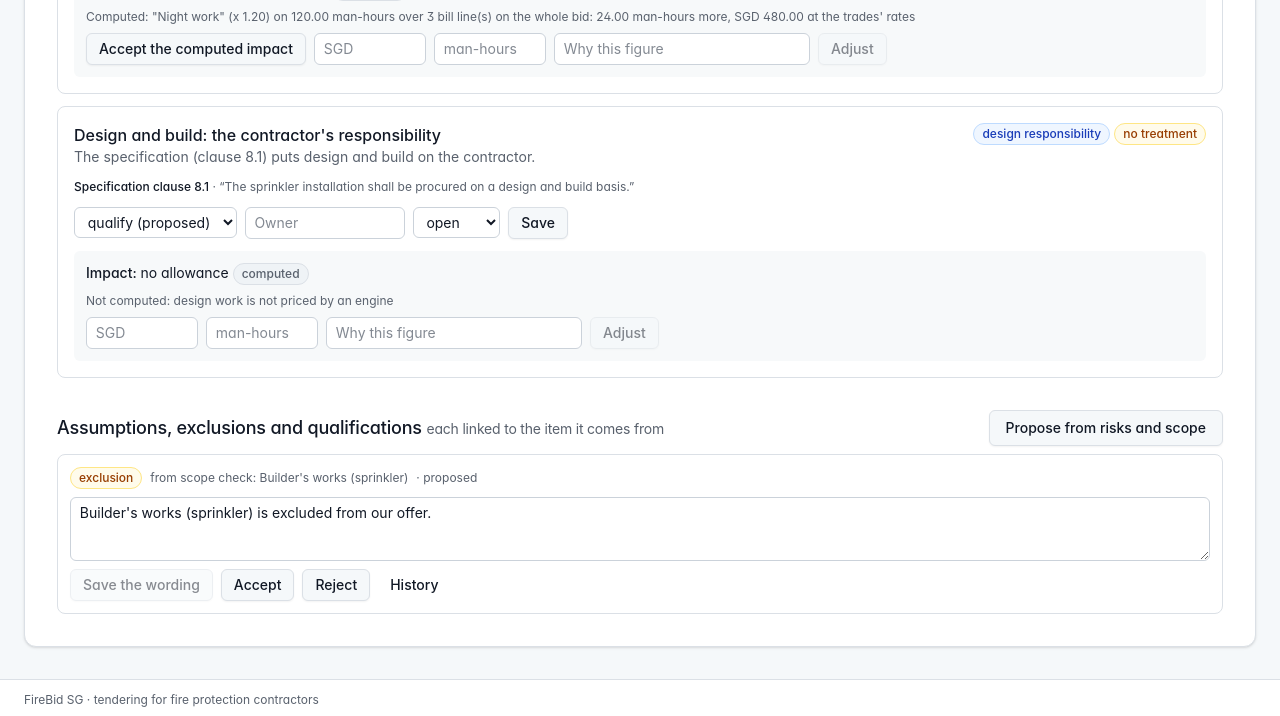
Test case: the risk page › shows where every qualification comes from, and saves an edited wording
(page scrolled)
Expected: the list item that starts with "exclusion" is shown, [79, 470, 133, 485]
Expected: the list item that starts with "exclusion" shows "from scope check: Builder's works (sprinkler)", [58, 455, 1222, 613]
Step 1. Replace the text in the text box with "Builder's works are excluded." → x=640, y=529, box [70, 497, 1210, 561]
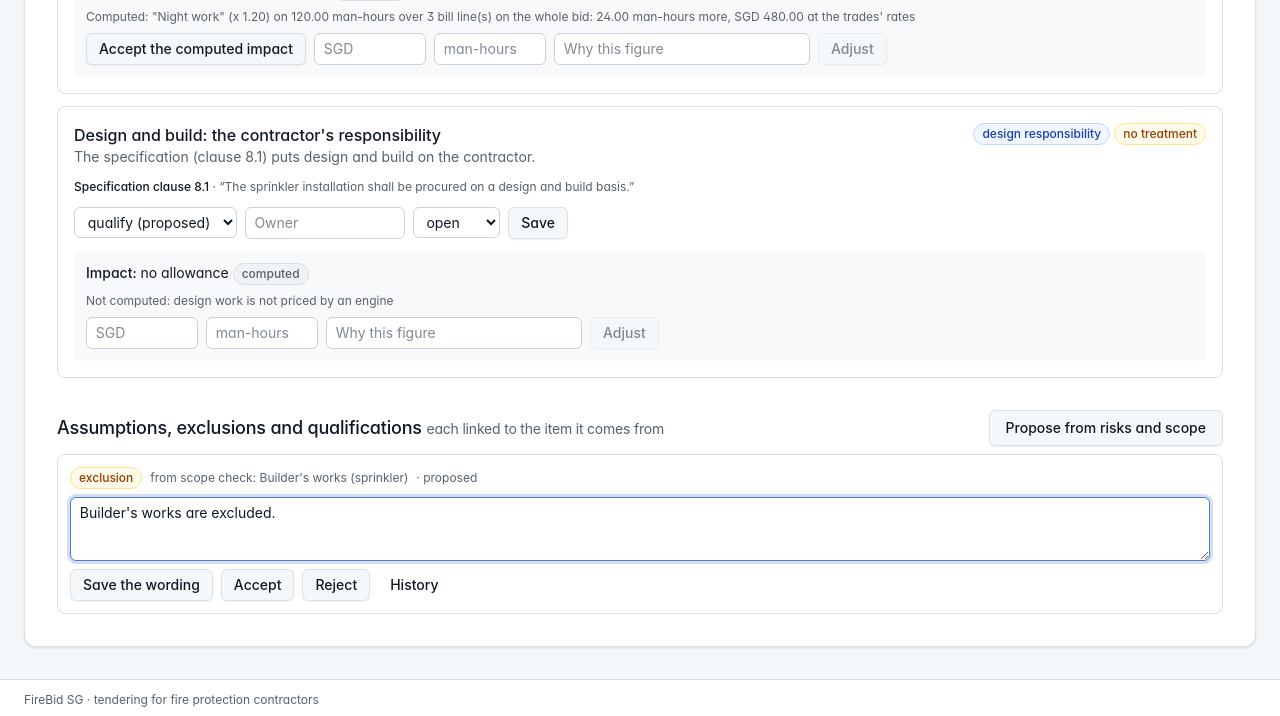
Step 2. Click the button "Save the wording" → x=141, y=585, box [70, 569, 213, 601]
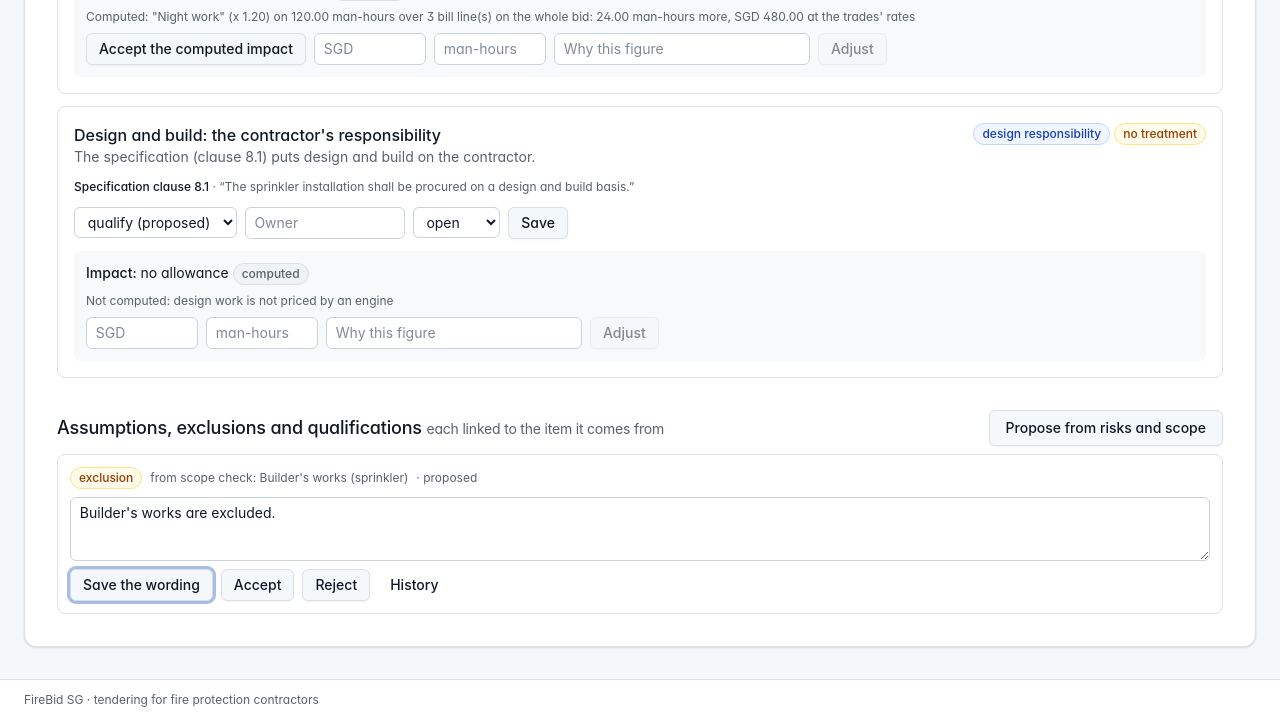
Step 3. Click the button "History" → x=414, y=585, box [378, 569, 450, 601]
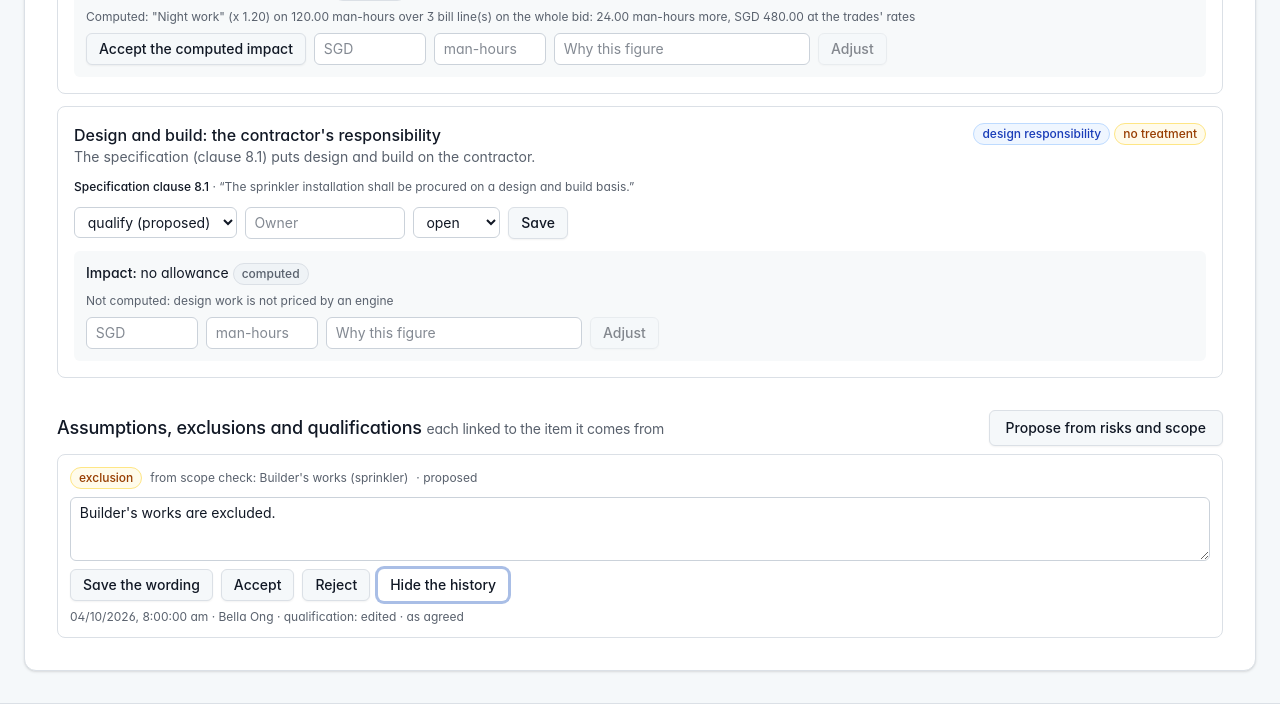
Expected: the list item "qualification: edited · as agreed" is shown, [70, 609, 464, 624]
